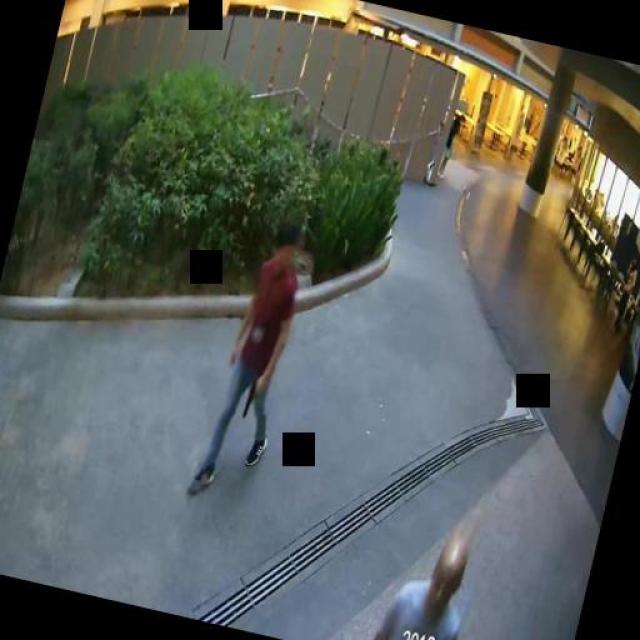gun: (241, 376, 265, 419)
